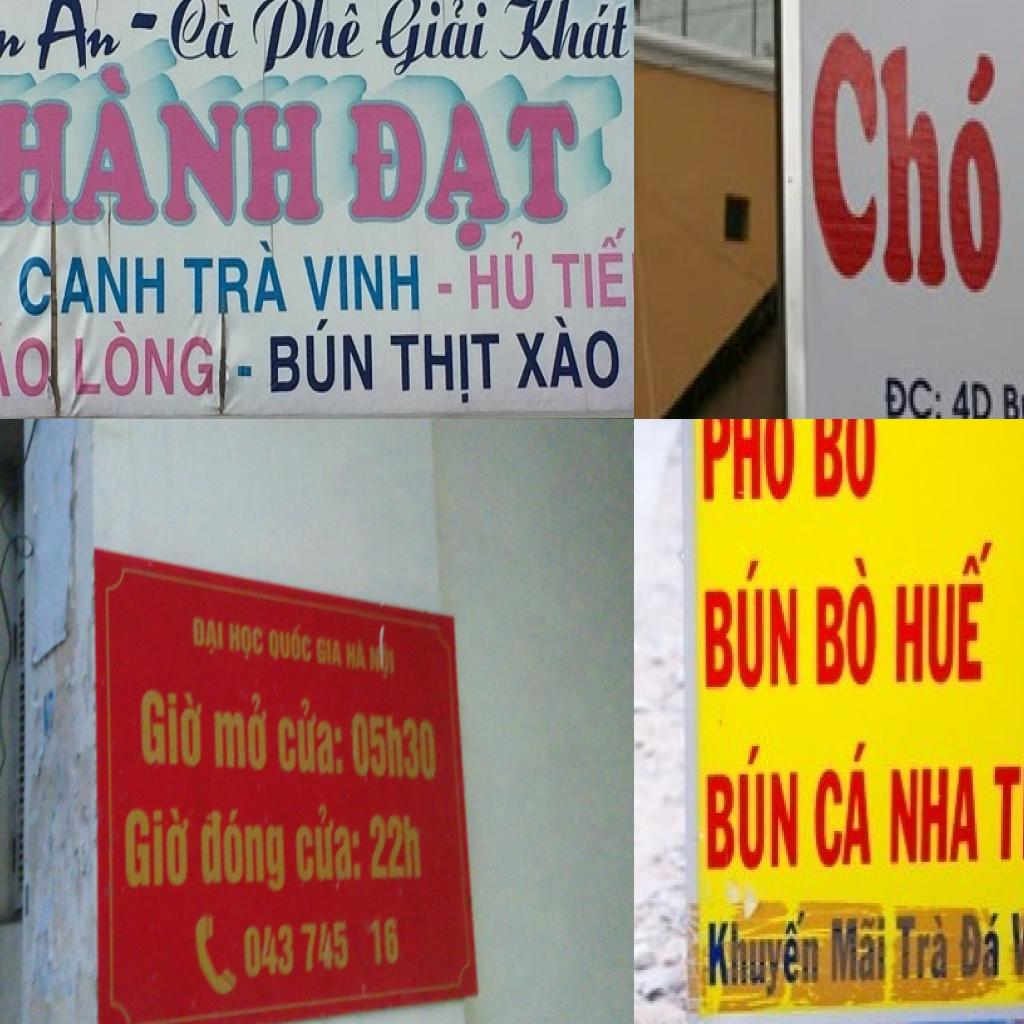text: (808, 30, 1006, 299), (0, 65, 324, 229), (344, 98, 582, 251), (894, 540, 999, 687), (704, 556, 802, 692), (706, 744, 800, 872), (74, 319, 216, 400), (706, 911, 822, 1006), (367, 0, 490, 81), (888, 767, 983, 867), (16, 254, 168, 316), (495, 0, 634, 66), (701, 419, 802, 507), (182, 235, 290, 316), (268, 316, 375, 396), (816, 556, 881, 687), (387, 331, 500, 406), (251, 0, 365, 74), (551, 213, 634, 312), (814, 738, 874, 872), (299, 252, 421, 316), (201, 808, 284, 894), (31, 0, 122, 73), (465, 220, 536, 312), (351, 712, 437, 783), (243, 921, 348, 979), (812, 419, 880, 501), (165, 0, 244, 70), (123, 808, 189, 888), (140, 688, 204, 768), (295, 807, 362, 883), (278, 699, 344, 775), (212, 694, 270, 772), (0, 320, 52, 401), (894, 911, 950, 983), (830, 916, 888, 985), (368, 816, 422, 880), (992, 761, 1024, 861), (961, 911, 1003, 980), (883, 377, 947, 419), (268, 622, 312, 667), (947, 381, 995, 419), (228, 622, 263, 664), (190, 616, 224, 658), (369, 639, 394, 681), (1002, 377, 1024, 419), (128, 6, 162, 33), (1011, 910, 1024, 980), (316, 634, 342, 668), (345, 636, 368, 671), (235, 364, 254, 380), (434, 281, 454, 294)
